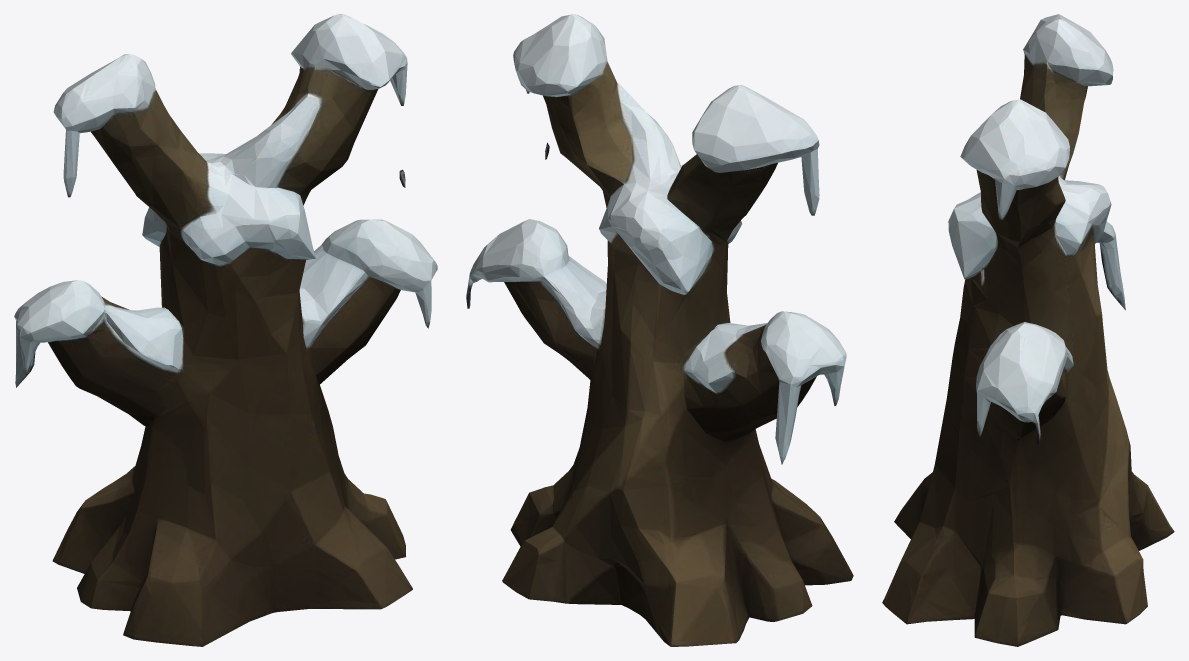
File: givre_arbre_gele.glb
3 renders of one model, left to right at view 1: azimuth 30°, elevation 25°; view 2: azimuth 150°, elevation 25°; view 3: azimuth 270°, elevation 25°, orthographic. The views are drawn at different scales.
Parts seen in each view (by area): view 1: geometry_0; view 2: geometry_0; view 3: geometry_0.
Boxes of the visible parts, x1,y1,x2,y2 form: geometry_0: (14, 14, 437, 646); geometry_0: (466, 14, 853, 646); geometry_0: (882, 14, 1174, 646).
Bounding box in the file's own units: 0.7711 × 1 × 0.5129.
Materials: 1 (1 with a texture image).
